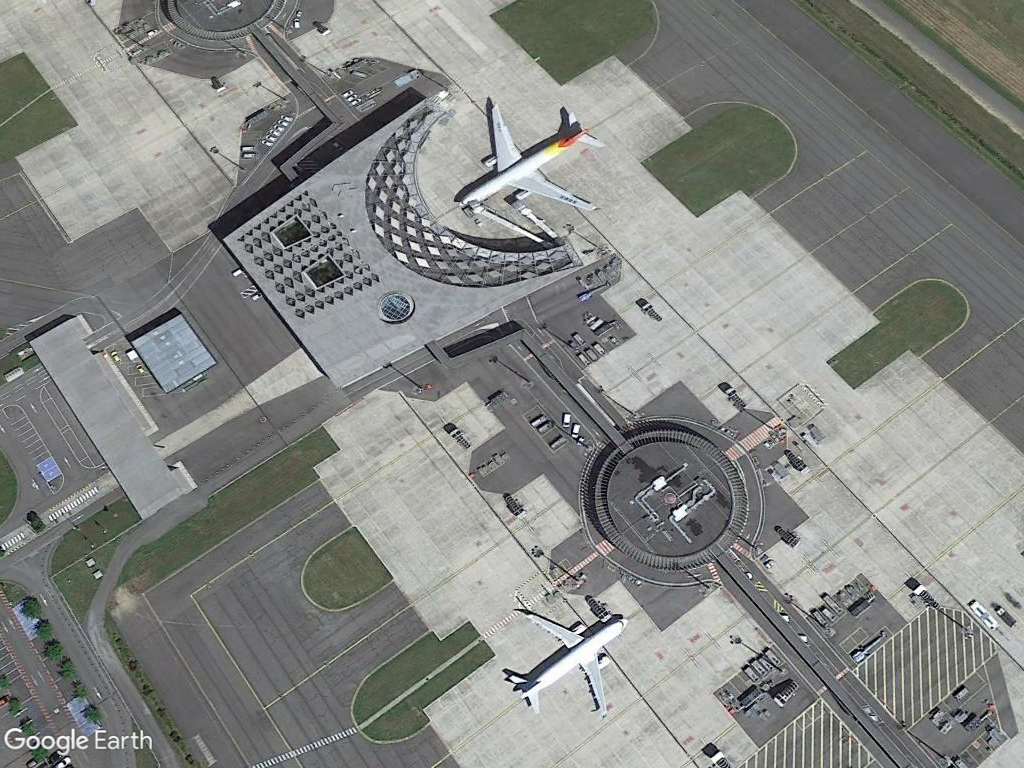airliner: (447, 98, 611, 216), (502, 602, 629, 719)
stairtruck: (910, 575, 943, 613), (772, 672, 801, 710), (719, 380, 751, 413), (779, 445, 812, 475), (501, 490, 529, 519), (447, 425, 475, 451), (639, 298, 665, 325), (775, 523, 802, 547)
